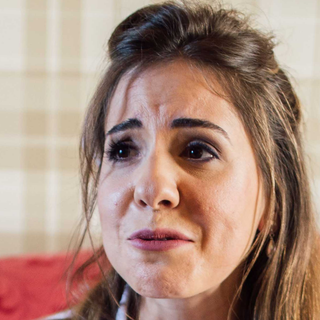eye: (176, 138, 222, 166), (101, 136, 142, 166)
